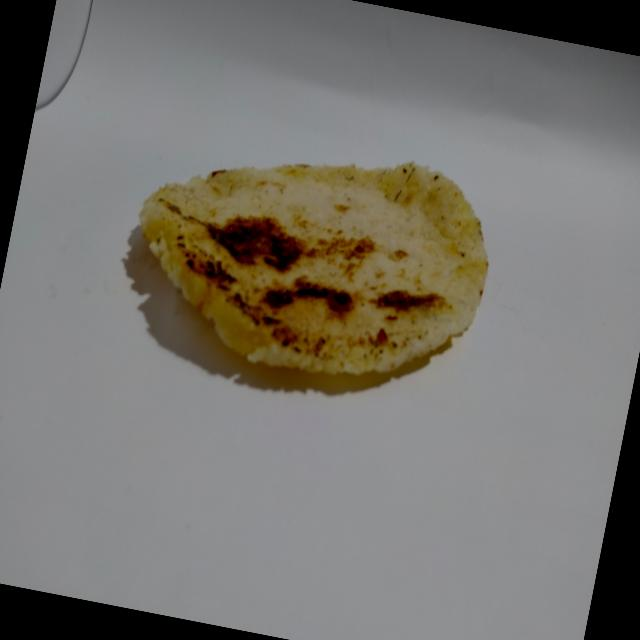Mbeju: (102, 103, 512, 420)
